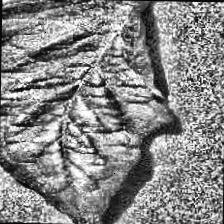spider mites: (0, 0, 173, 224)
